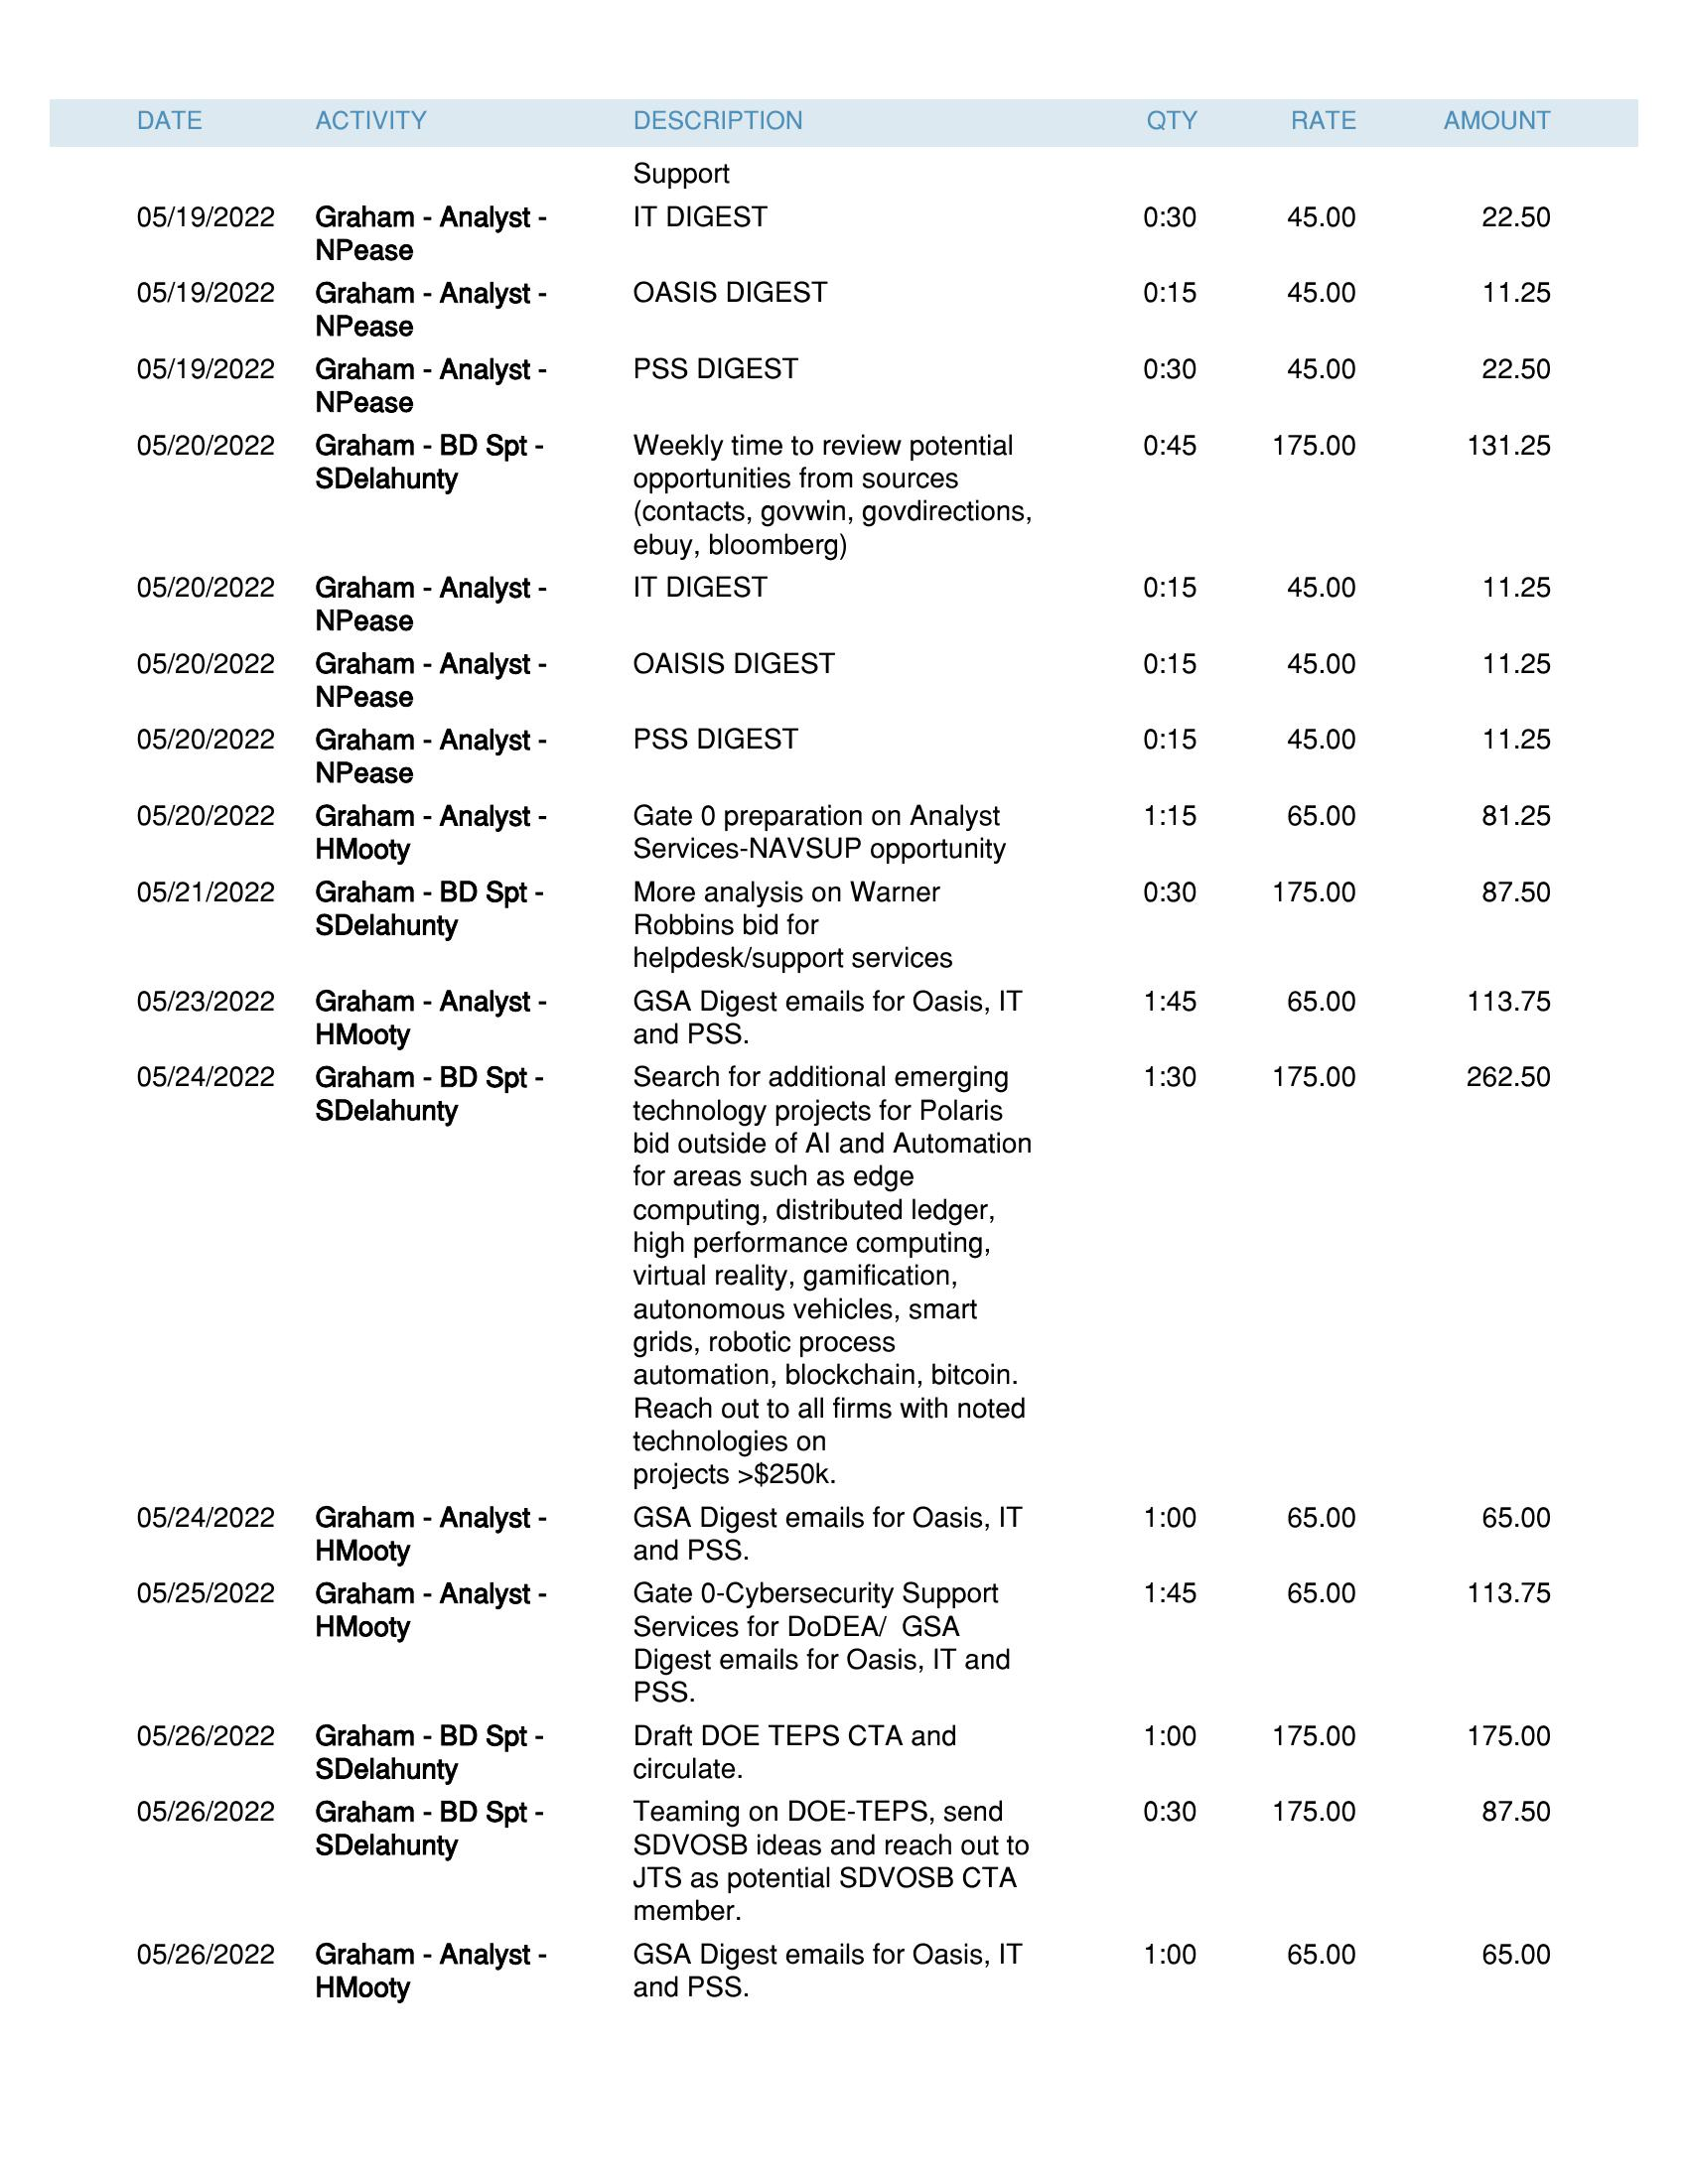table: (39, 85, 1644, 2032)
